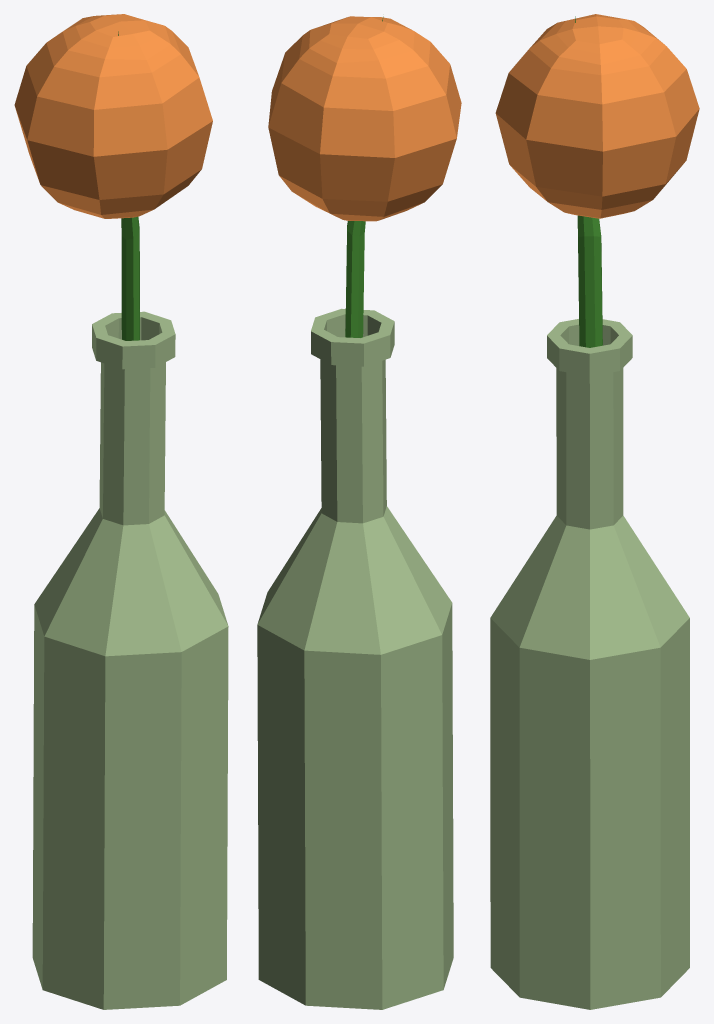
Rendered from Flower_Craspedia.fbx.
3 renders of one model, left to right at view 1: azimuth 30°, elevation 25°; view 2: azimuth 150°, elevation 25°; view 3: azimuth 270°, elevation 25°, orthographic.
Parts seen in each view (by area): view 1: Flower_Craspedia; view 2: Flower_Craspedia; view 3: Flower_Craspedia.
Boxes of the visible parts, box(x1,y1,x2,y2) form: Flower_Craspedia: box(14, 14, 228, 1009); Flower_Craspedia: box(257, 16, 461, 1009); Flower_Craspedia: box(490, 14, 699, 1009).
Size of the model in its own units: 16.01 by 15.39 by 76.53.
